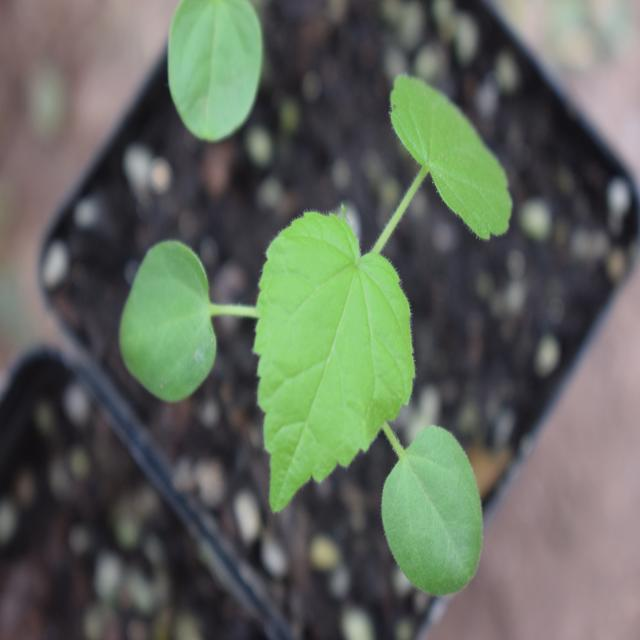abutilon theophrasti: (140, 82, 518, 619)
